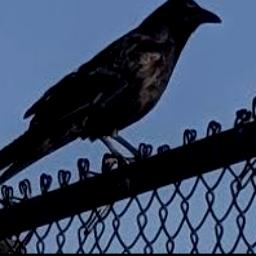Crow: (0, 0, 222, 194)
